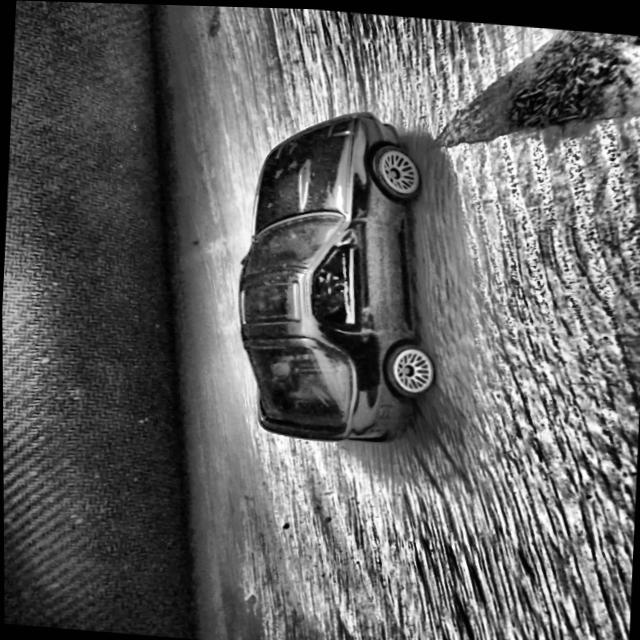car: (227, 100, 450, 447)
